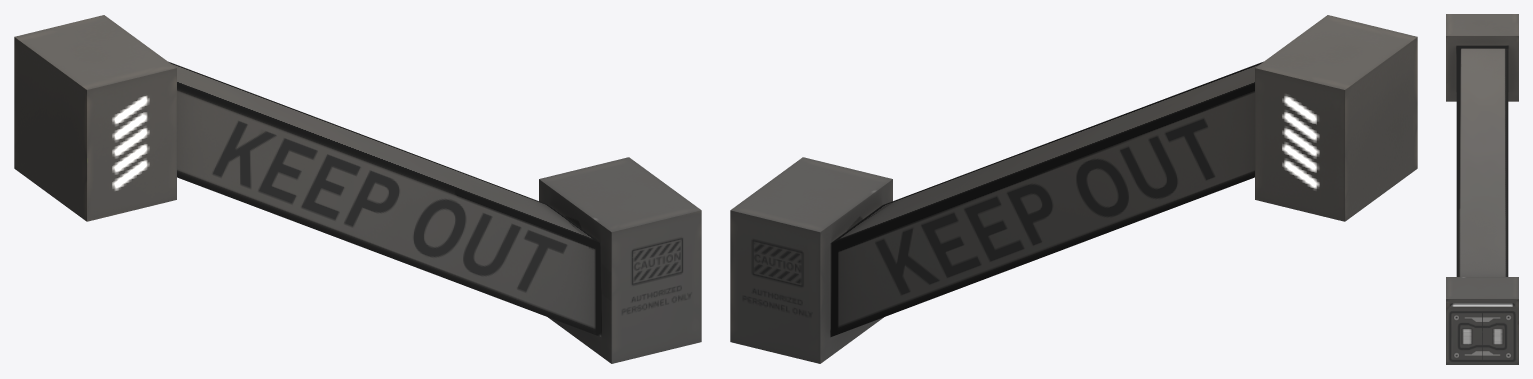
Rendered from ProjectRG_Environment_Sci-Fi_BottomFoundation.fbx.
3 views of the same model, side by side, from view 1: azimuth 30°, elevation 25°; view 2: azimuth 150°, elevation 25°; view 3: azimuth 270°, elevation 25° (orthographic). The views are drawn at different scales.
Parts seen in each view (by area): view 1: ProjectRG_Environment_Sci-Fi_BottomFoundation; view 2: ProjectRG_Environment_Sci-Fi_BottomFoundation; view 3: ProjectRG_Environment_Sci-Fi_BottomFoundation.
Boxes of the visible parts, <box> form: ProjectRG_Environment_Sci-Fi_BottomFoundation: <box>14,15,701,363</box>; ProjectRG_Environment_Sci-Fi_BottomFoundation: <box>730,15,1417,363</box>; ProjectRG_Environment_Sci-Fi_BottomFoundation: <box>1446,14,1518,364</box>.
Bounding box in the file's own units: 2615 × 1634 × 536.
